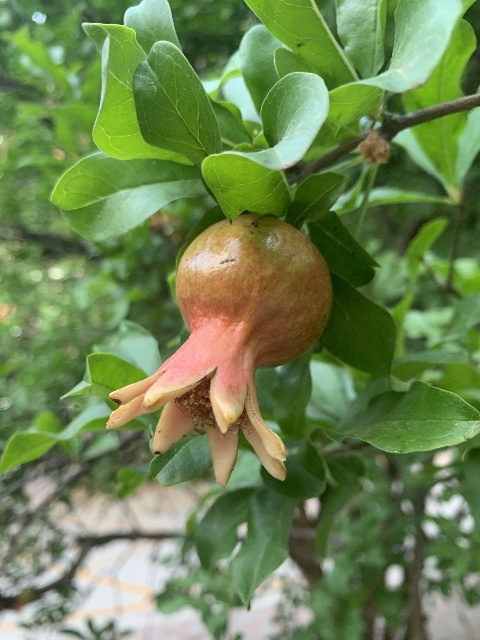early-fruit: (106, 213, 334, 488)
